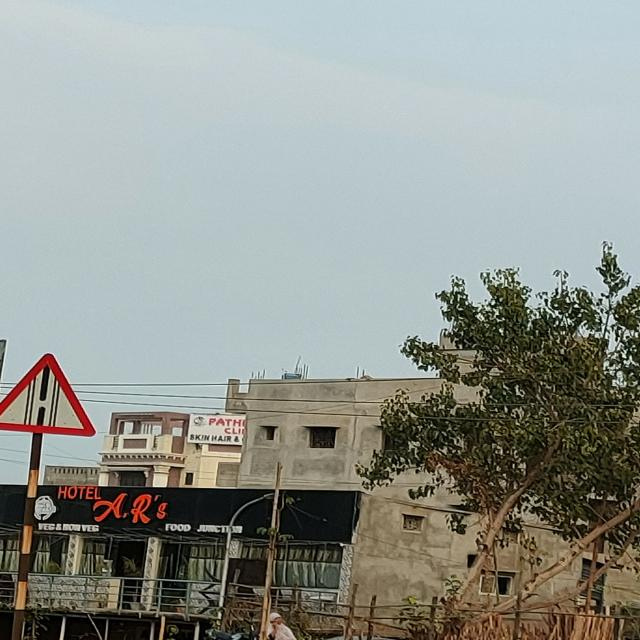GAP_IN_MEDIAN: (3, 354, 94, 435)
